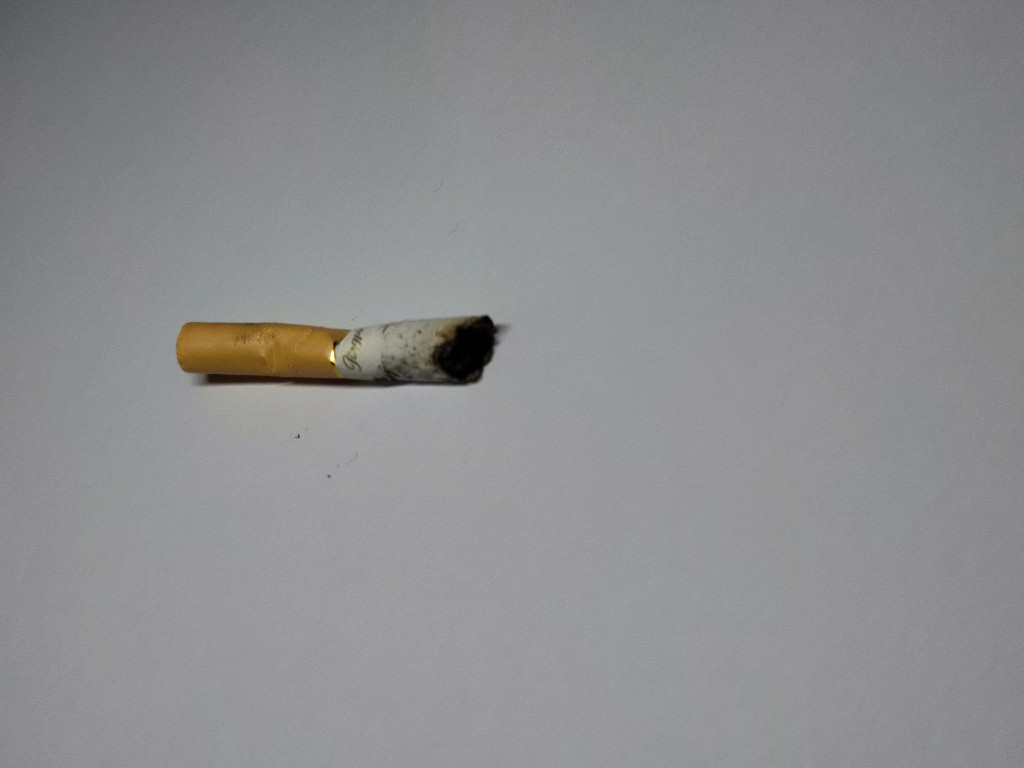cigarette: (168, 311, 503, 388)
